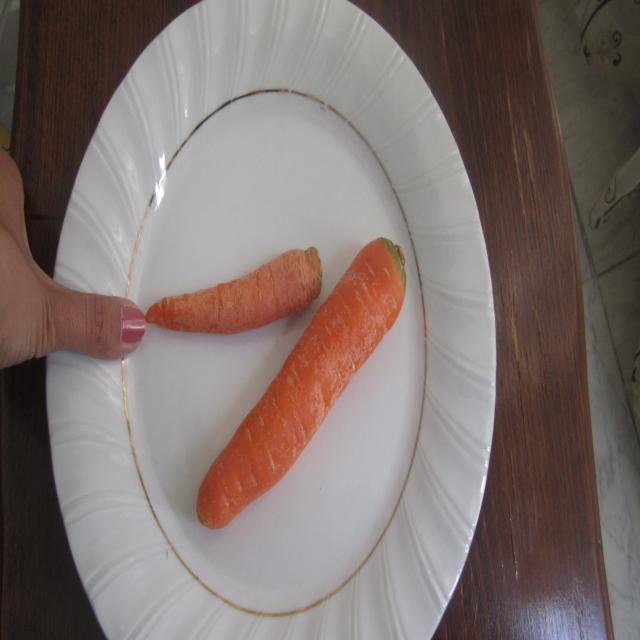carrot: (150, 237, 450, 542)
